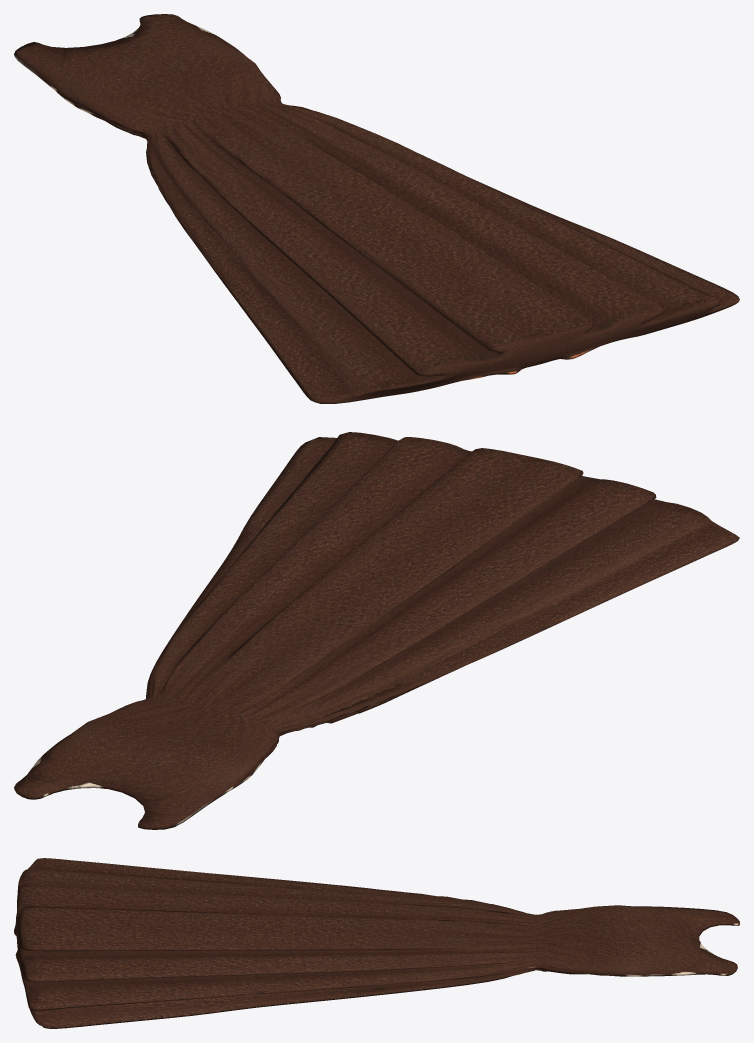
Rendered from M3D_vestido.fbx.
3 views of the same model, one above another, from view 1: azimuth 30°, elevation 25°; view 2: azimuth 150°, elevation 25°; view 3: azimuth 270°, elevation 25° (orthographic). The views are drawn at different scales.
Visible parts, largest first — view 1: SM_vestido; view 2: SM_vestido; view 3: SM_vestido.
Part boxes in pixels (x1=…): SM_vestido: x1=14, y1=14, x2=739, y2=403; SM_vestido: x1=14, y1=432, x2=739, y2=829; SM_vestido: x1=14, y1=858, x2=739, y2=1028.
Size of the model in its own units: 0.439 by 0.0278 by 0.809.
